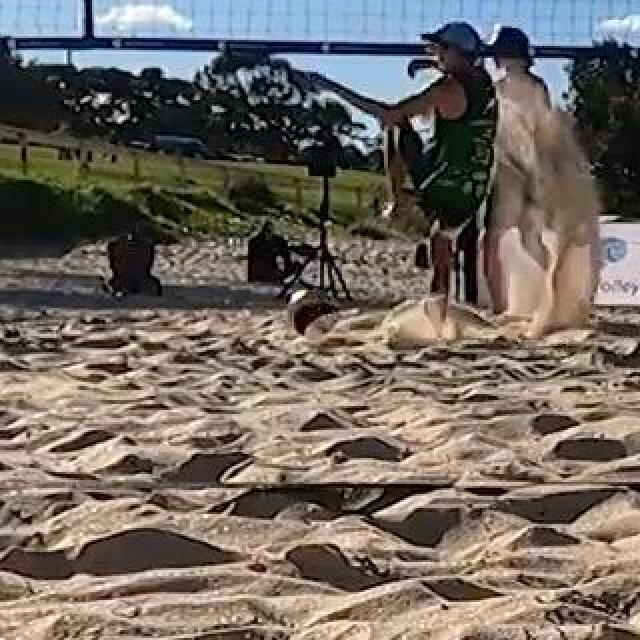volleyball: (286, 285, 338, 335)
